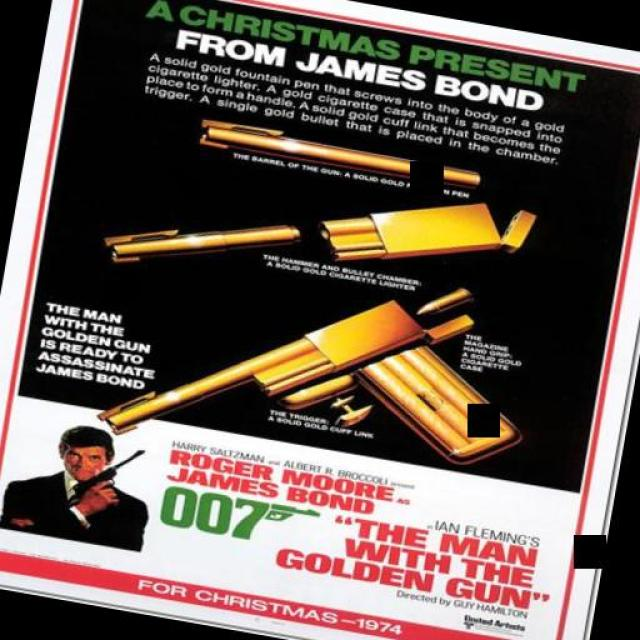gun: (76, 220, 545, 498), (59, 432, 149, 526)
